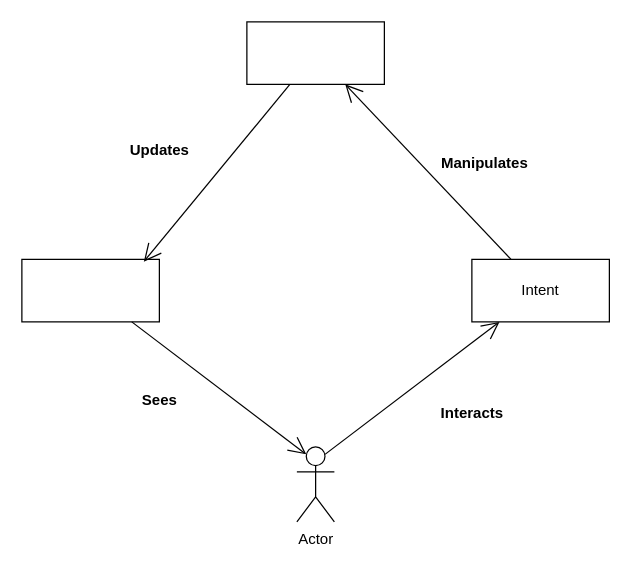
Image size: 631x570. Some labels were removed from this diagram. The shapes that lost their labels are listed below. From the top down, each one's centre as x and y in pixels, then its label:
point 315,52: Model
point 90,290: View
